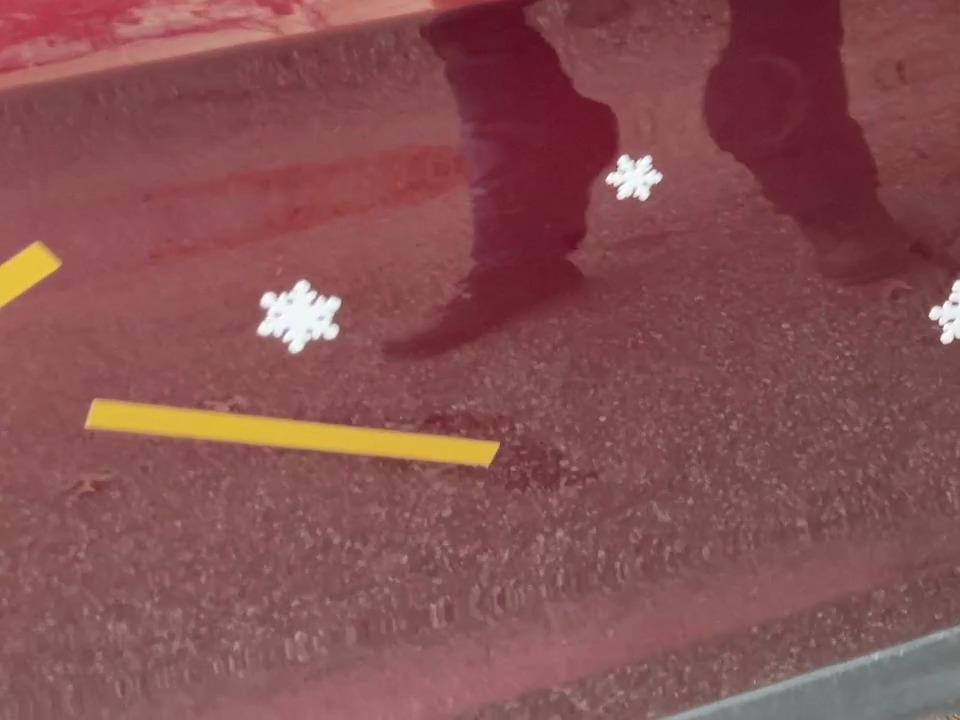dent: (251, 271, 351, 357), (605, 143, 670, 206), (930, 276, 960, 346)
scratch: (81, 385, 505, 479)
